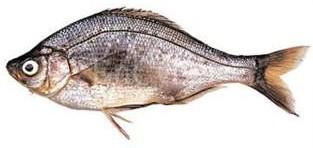fish: (4, 7, 311, 141)
